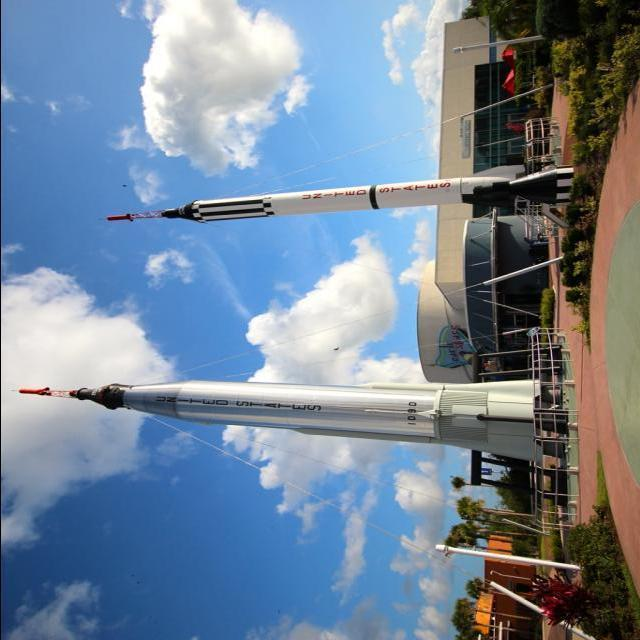missile: (18, 378, 572, 460), (109, 155, 570, 233)
